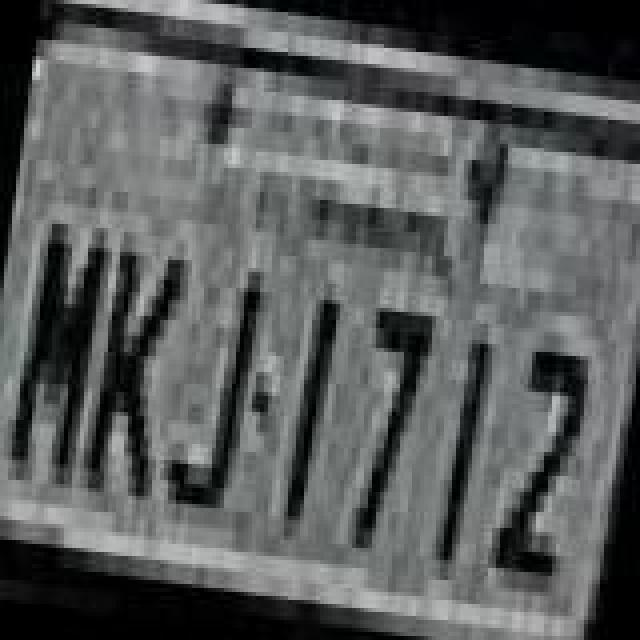1: (274, 284, 350, 540), (432, 326, 496, 570)
2: (482, 332, 598, 596)
7: (340, 298, 436, 558)
J: (160, 252, 272, 524)
K: (78, 236, 194, 508)
M: (0, 208, 112, 496)
